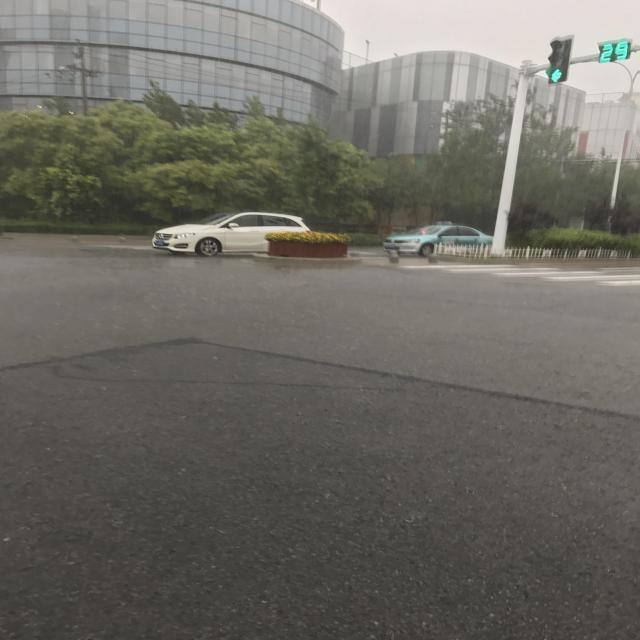car: (212, 328, 258, 490), (220, 147, 258, 256)
